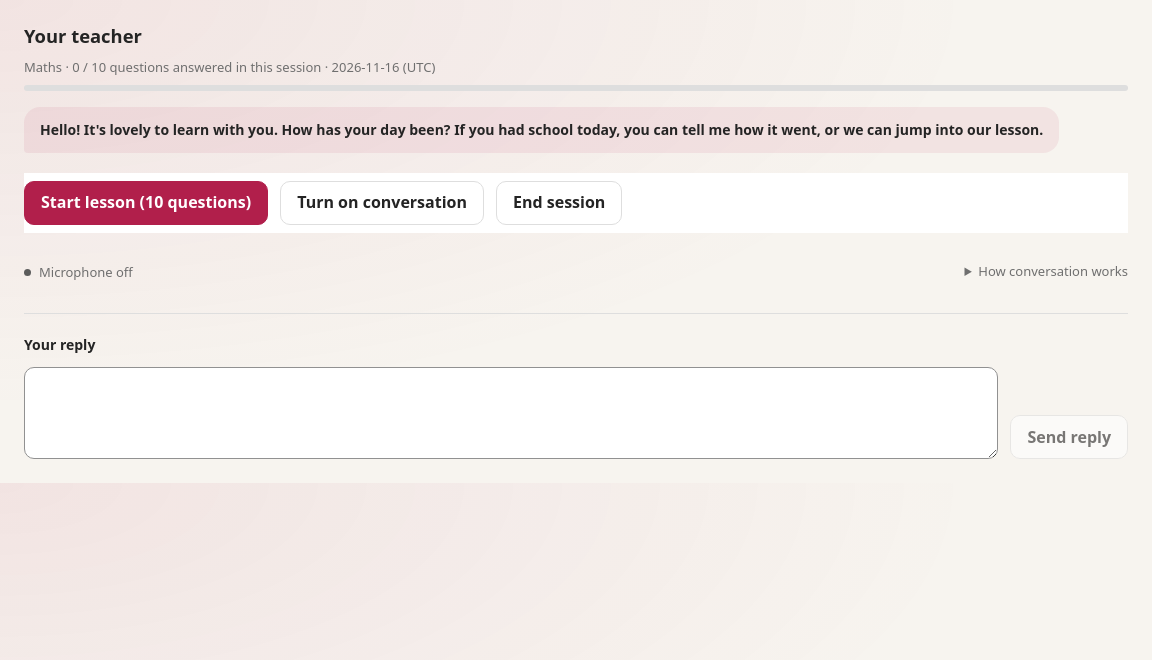
guided teacher session › clearly appreciates a correct spoken answer before reading the next question
Click the button "Start lesson (10 questions)".
click(146, 203)  # box [24, 181, 268, 225]
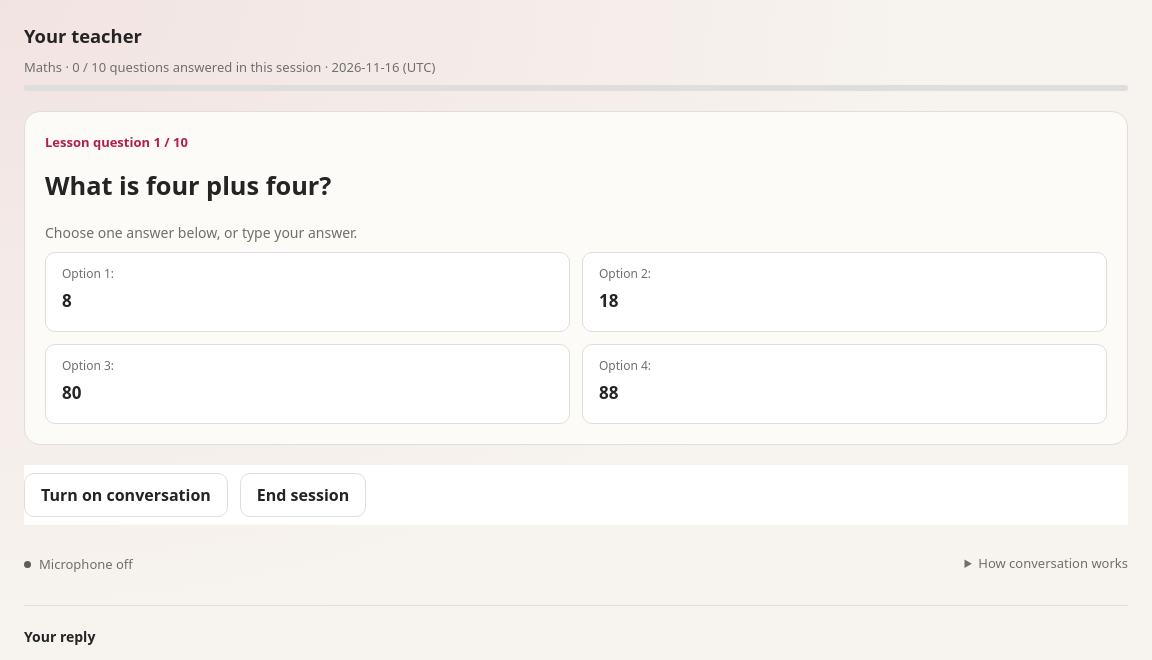
Expected: the heading "What is four plus four?" is shown, [45, 168, 331, 202]
Click the button "Turn on conversation".
click(126, 495)  # box [24, 473, 228, 517]
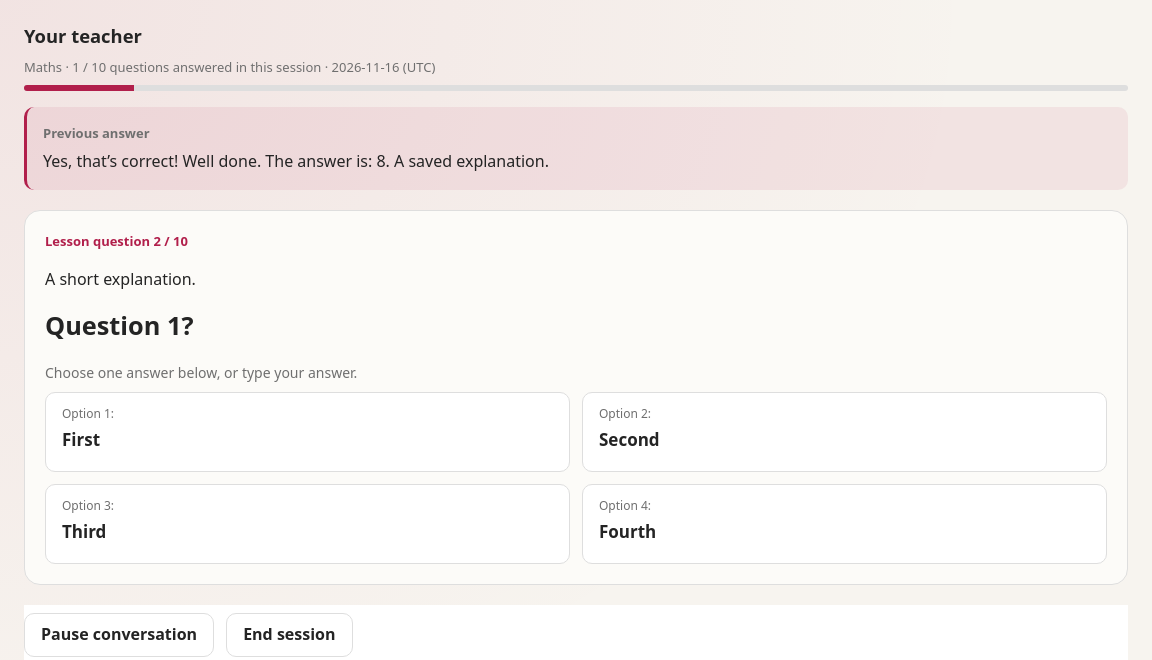
Expected: the text "Yes, that’s correct! Well done" is shown once, [43, 150, 549, 172]
Expected: the heading "Question 1?" is shown, [45, 308, 194, 342]
Expected: the text "Previous answer" is shown, [43, 124, 150, 142]
